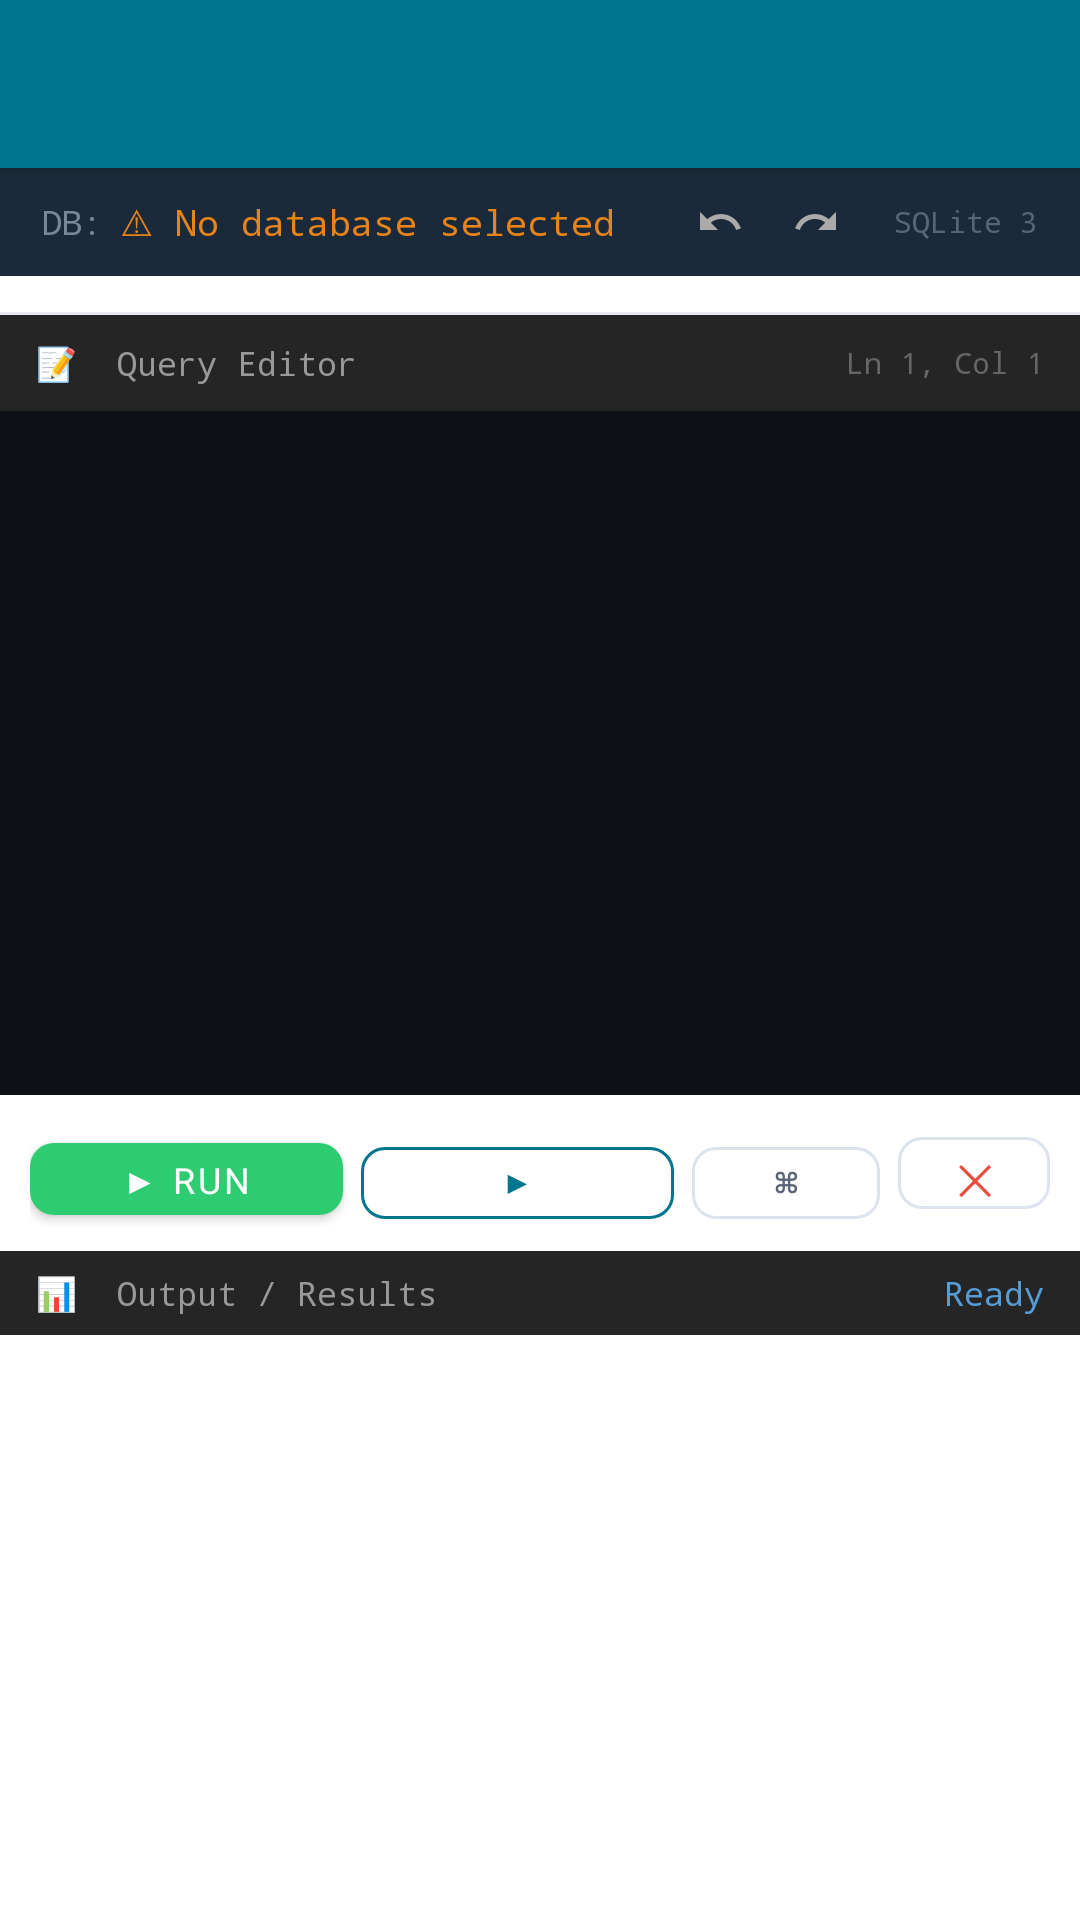

Where icons sit on this 1080 × 1920 app screen, as (x1, y1, x2, y2):
Redo: (795, 212, 836, 230)
Undo: (700, 212, 741, 230)
